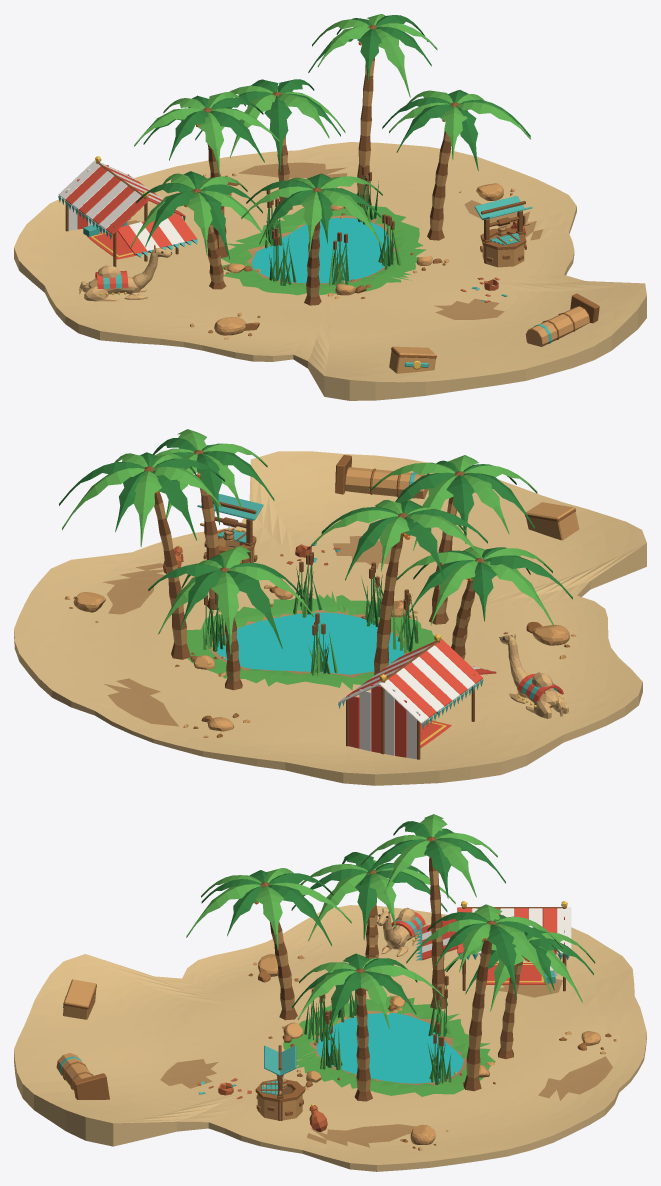
File: desert-oasis-camp.glb
3 views of the same model, one above another, from view 1: azimuth 30°, elevation 25°; view 2: azimuth 150°, elevation 25°; view 3: azimuth 270°, elevation 25° (orthographic). The views are drawn at different scales.
Visible parts, largest first — view 1: Oasis_Ground, Tent, Pool_Water, Palm_6_Fronds, Palm_2_Fronds, Palm_1_Fronds, Palm_4_Fronds, Palm_3_Fronds, Palm_5_Fronds, Well, Tent_Flap, Column_Fallen (+10 smaller); view 2: Oasis_Ground, Tent, Pool_Water, Palm_3_Fronds, Palm_5_Fronds, Palm_2_Fronds, Palm_6_Fronds, Palm_1_Fronds, Palm_4_Fronds, Column_Fallen, Palm_3, Palm_1 (+16 smaller); view 3: Oasis_Ground, Pool_Water, Palm_2_Fronds, Palm_3_Fronds, Palm_1_Fronds, Palm_4_Fronds, Palm_6_Fronds, Tent, Palm_5_Fronds, Well, Palm_3, Column_Fallen (+12 smaller).
Part boxes in pixels (x1,y1,x2,y2): Oasis_Ground: (14, 142, 646, 400); Tent: (58, 156, 185, 266); Pool_Water: (251, 218, 389, 283); Palm_6_Fronds: (130, 171, 271, 259); Palm_2_Fronds: (241, 173, 382, 251); Palm_1_Fronds: (134, 92, 279, 175); Palm_4_Fronds: (382, 90, 530, 170); Palm_3_Fronds: (308, 14, 437, 97); Palm_5_Fronds: (195, 79, 345, 172); Well: (474, 196, 532, 267); Tent_Flap: (117, 213, 197, 257); Column_Fallen: (525, 293, 599, 346); Oasis_Ground: (14, 451, 646, 785); Tent: (338, 634, 483, 759); Pool_Water: (217, 612, 404, 674); Palm_3_Fronds: (59, 452, 224, 547); Palm_5_Fronds: (148, 546, 313, 654); Palm_2_Fronds: (370, 455, 537, 550); Palm_6_Fronds: (396, 546, 572, 626); Palm_1_Fronds: (311, 499, 487, 580); Palm_4_Fronds: (128, 429, 274, 525); Column_Fallen: (335, 455, 428, 498); Palm_3: (154, 493, 190, 659); Palm_1: (374, 532, 403, 685); Oasis_Ground: (14, 905, 646, 1171); Pool_Water: (317, 1013, 463, 1083); Palm_2_Fronds: (186, 868, 351, 950); Palm_3_Fronds: (406, 904, 562, 999); Palm_1_Fronds: (359, 814, 505, 898); Palm_4_Fronds: (292, 953, 444, 1039); Palm_6_Fronds: (291, 852, 455, 941); Tent: (457, 901, 571, 991); Palm_5_Fronds: (444, 927, 595, 1011); Well: (255, 1045, 304, 1120); Palm_3: (463, 940, 491, 1091); Column_Fallen: (56, 1053, 109, 1099).
Size of the model in its own units: 72.83 by 23.97 by 75.7.
